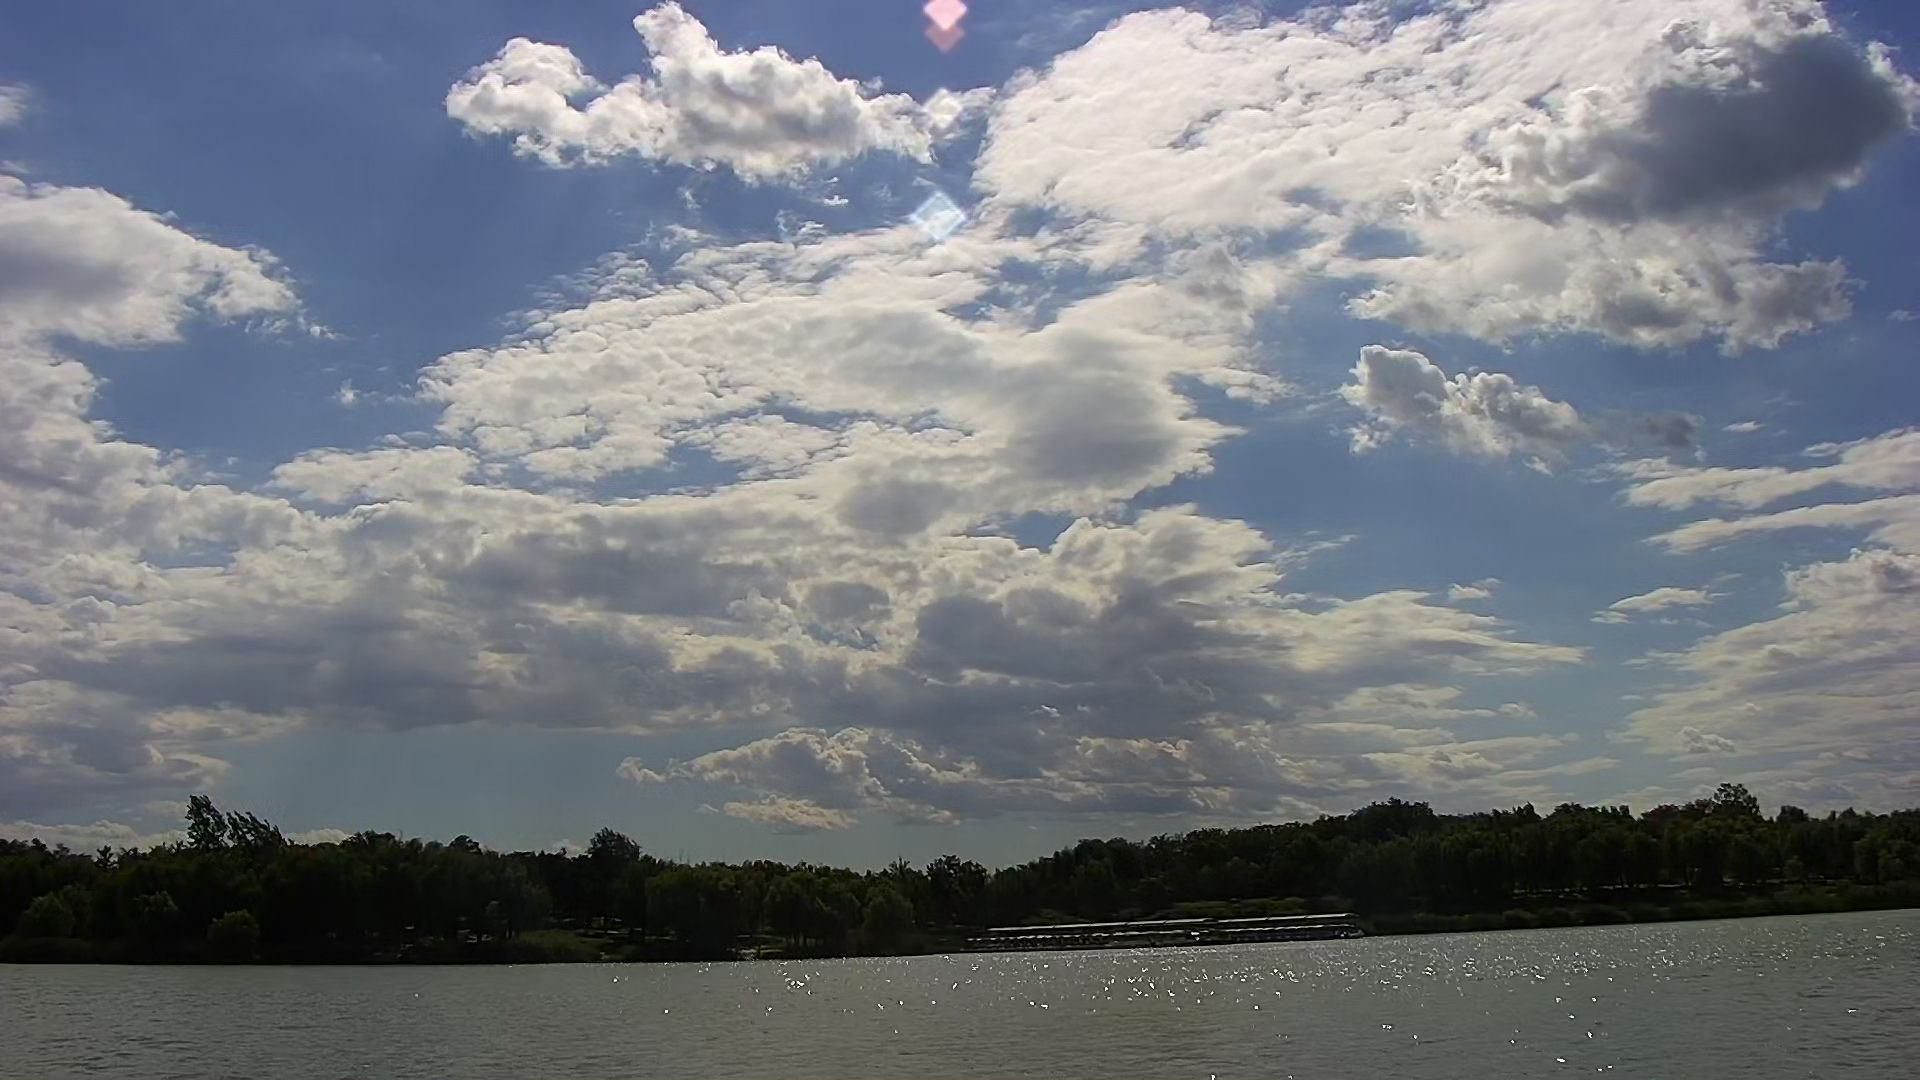harbor: (967, 914, 1367, 952)
